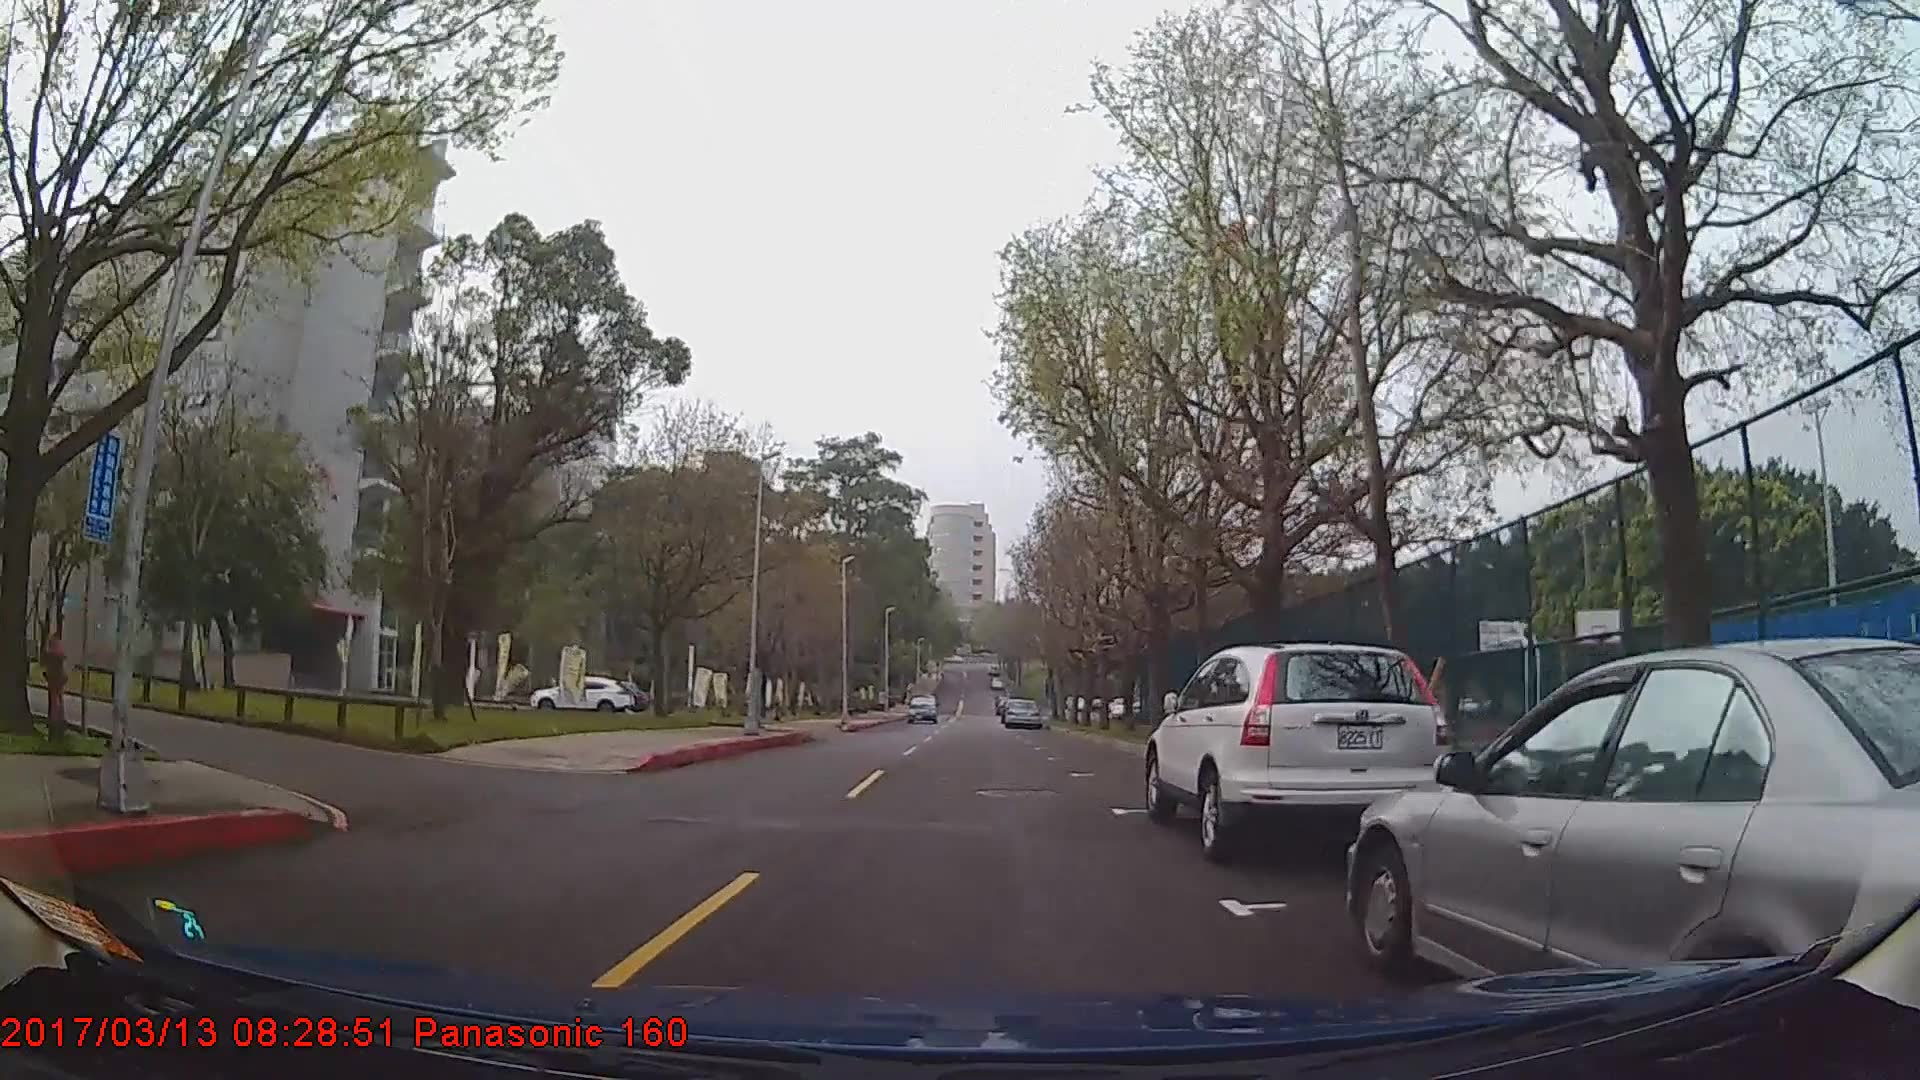vehicle: (1349, 632, 1920, 1009), (1142, 644, 1455, 864), (527, 675, 634, 713), (1001, 698, 1040, 729), (903, 692, 939, 723)
